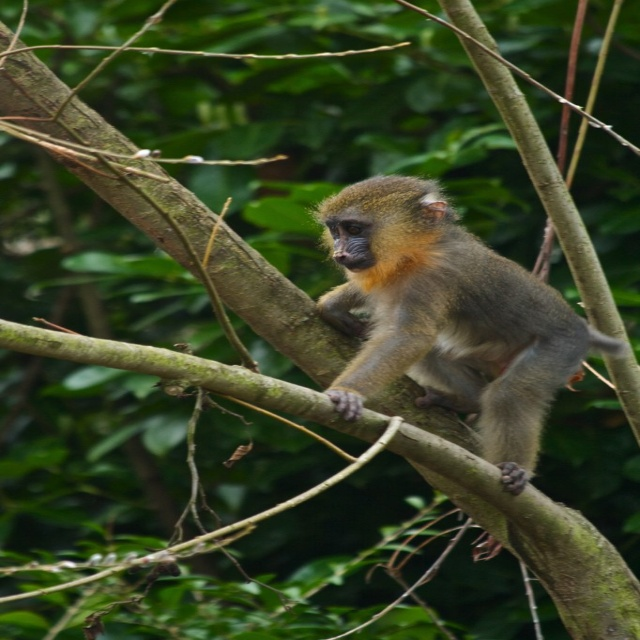Monkey: (322, 169, 628, 496)
